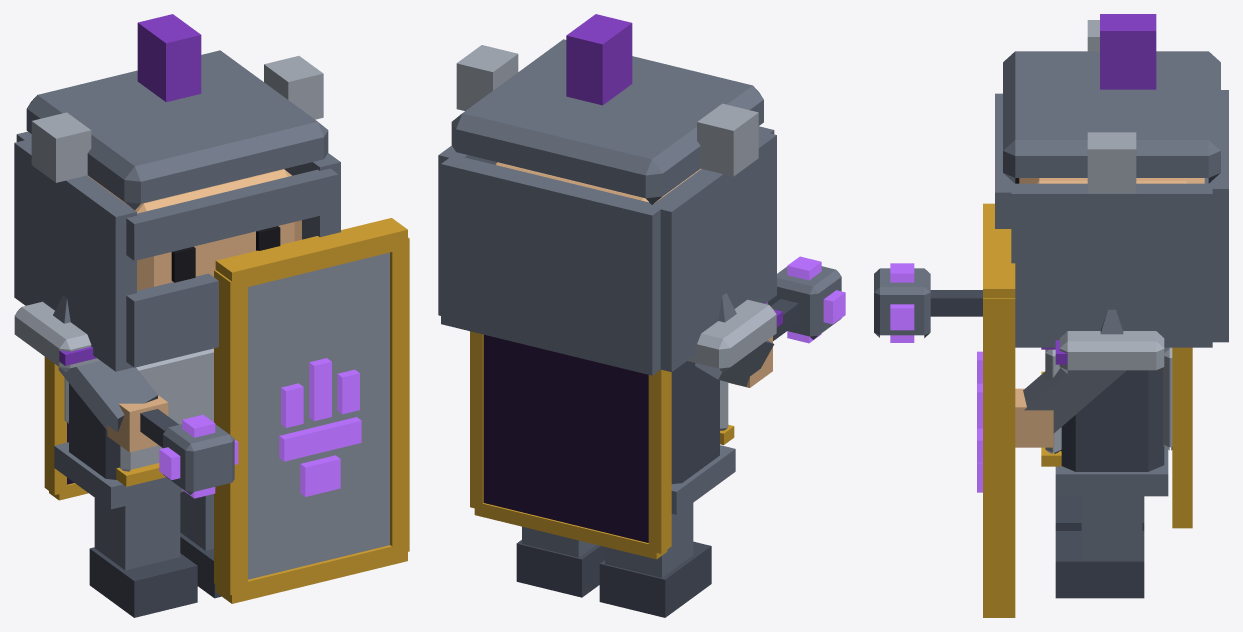
File: shield_knight_rare.glb
The picture shows the model from 3 angles, left to right: view 1: azimuth 30°, elevation 25°; view 2: azimuth 150°, elevation 25°; view 3: azimuth 270°, elevation 25°; orthographic projection. The views are drawn at different scales.
Visible parts, largest first — view 1: shield_knight_rare_mesh; view 2: shield_knight_rare_mesh; view 3: shield_knight_rare_mesh.
Part boxes in pixels (left/top/right/bottom): shield_knight_rare_mesh: left=14, top=14, right=409, bottom=617; shield_knight_rare_mesh: left=438, top=14, right=845, bottom=617; shield_knight_rare_mesh: left=874, top=14, right=1228, bottom=617.
Bounding box in the file's own units: 0.7686 × 1.3 × 0.773.
Materials: 2 (2 with a texture image).
